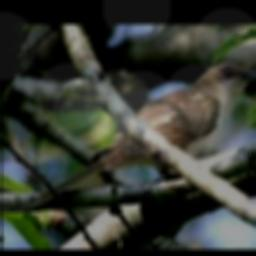Cuckoo: (18, 62, 256, 212)
